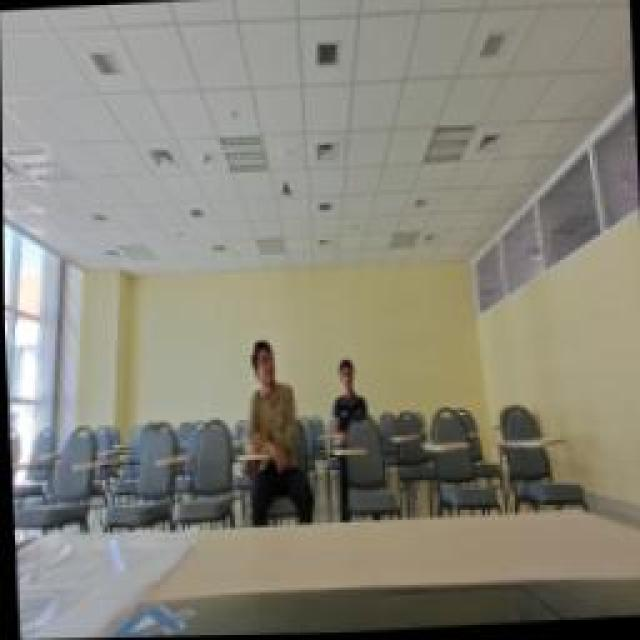study: (237, 335, 315, 530), (322, 352, 368, 448)
